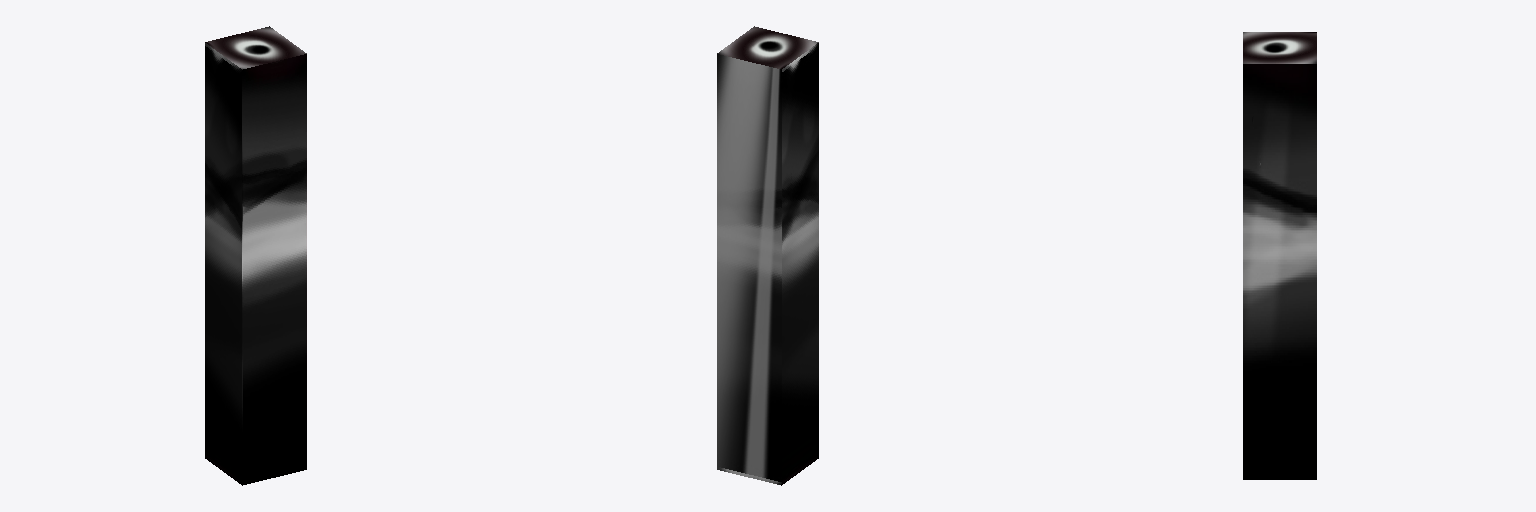
3 renders of one model, left to right at view 1: azimuth 30°, elevation 25°; view 2: azimuth 150°, elevation 25°; view 3: azimuth 270°, elevation 25°, orthographic.
Parts seen in each view (by area): view 1: Cube; view 2: Cube; view 3: Cube.
Boxes of the visible parts, x1,y1,x2,y2 form: Cube: [205, 26, 306, 485]; Cube: [717, 26, 818, 485]; Cube: [1243, 32, 1316, 479].
Size of the model in its own units: 0.4773 by 2.92 by 0.4773.
Materials: 1 (1 with a texture image).